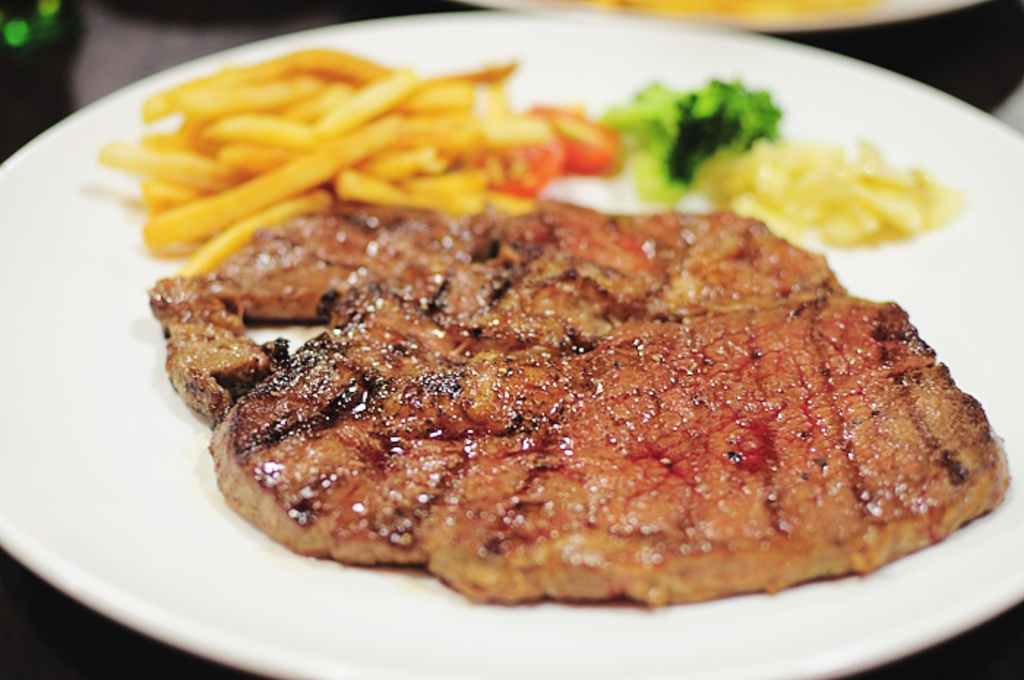French fries: (108, 46, 551, 258)
